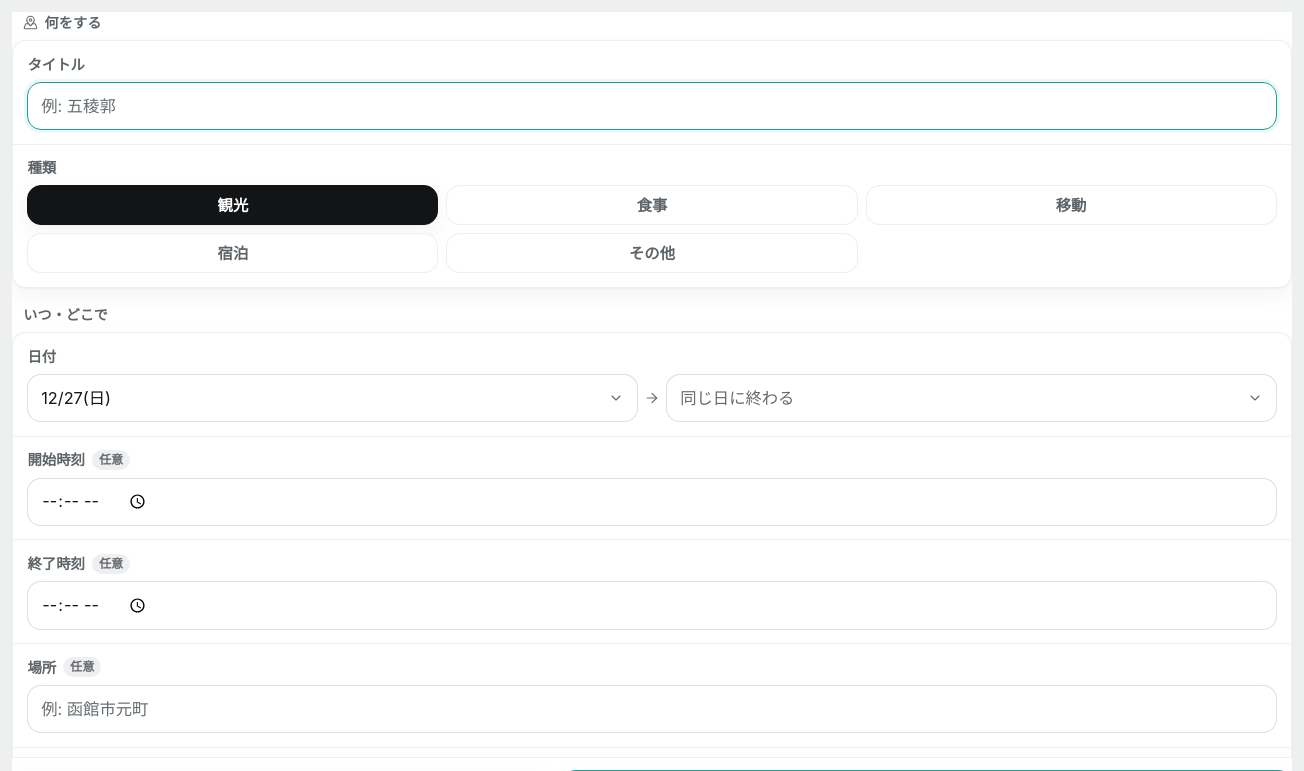
Scenario: 旅行の予定の入力: 移動手段 › 種類が「移動」の時だけ、移動手段を選ぶ欄が出る
expect the text "移動手段" is not shown: met
Click the button "移動" at point(1071, 206), box [866,186,1277,226]
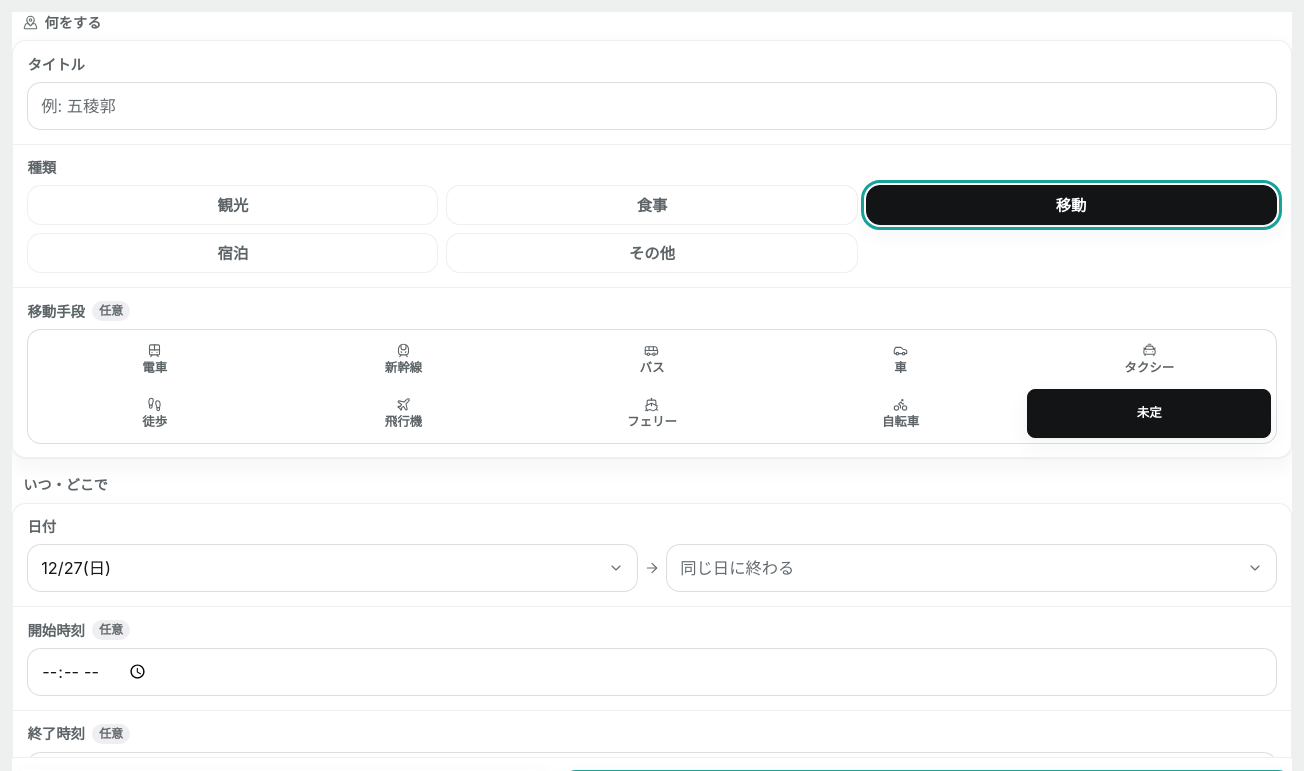
expect the text "移動手段" is shown: met, box [27,300,85,322]
expect the button "新幹線" is shown: met, box [282,334,525,384]
